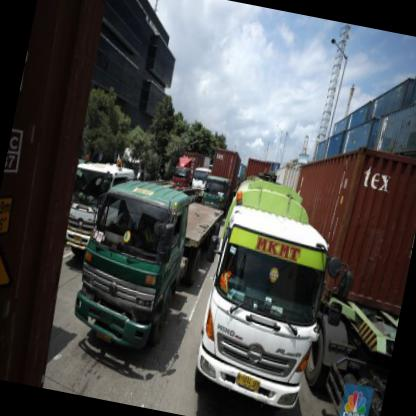truck: (185, 203, 342, 416), (68, 174, 200, 365)
